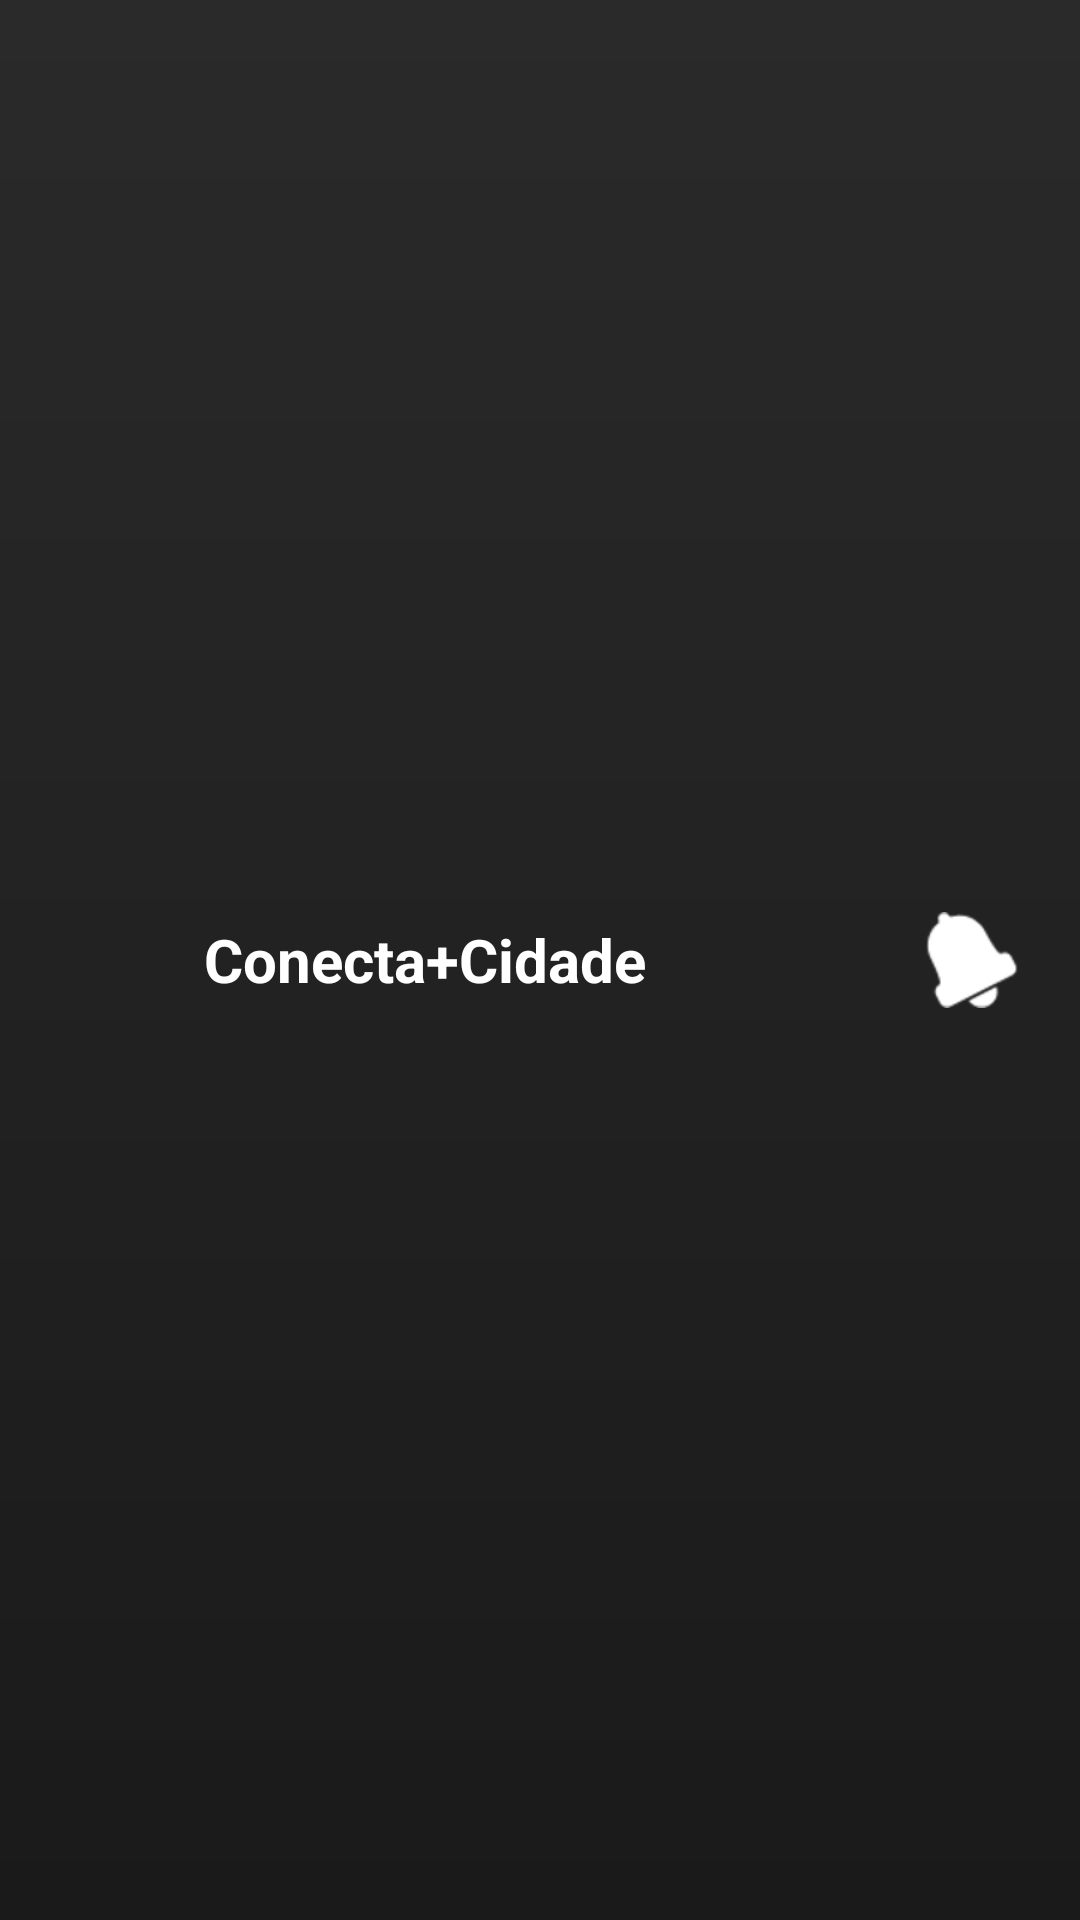

Icons on this 1080 × 1920 Android screen, each with its box as (left=x1, top=y1, right=x2, bottom=y2):
Notificações: (left=927, top=912, right=1017, bottom=1008)
